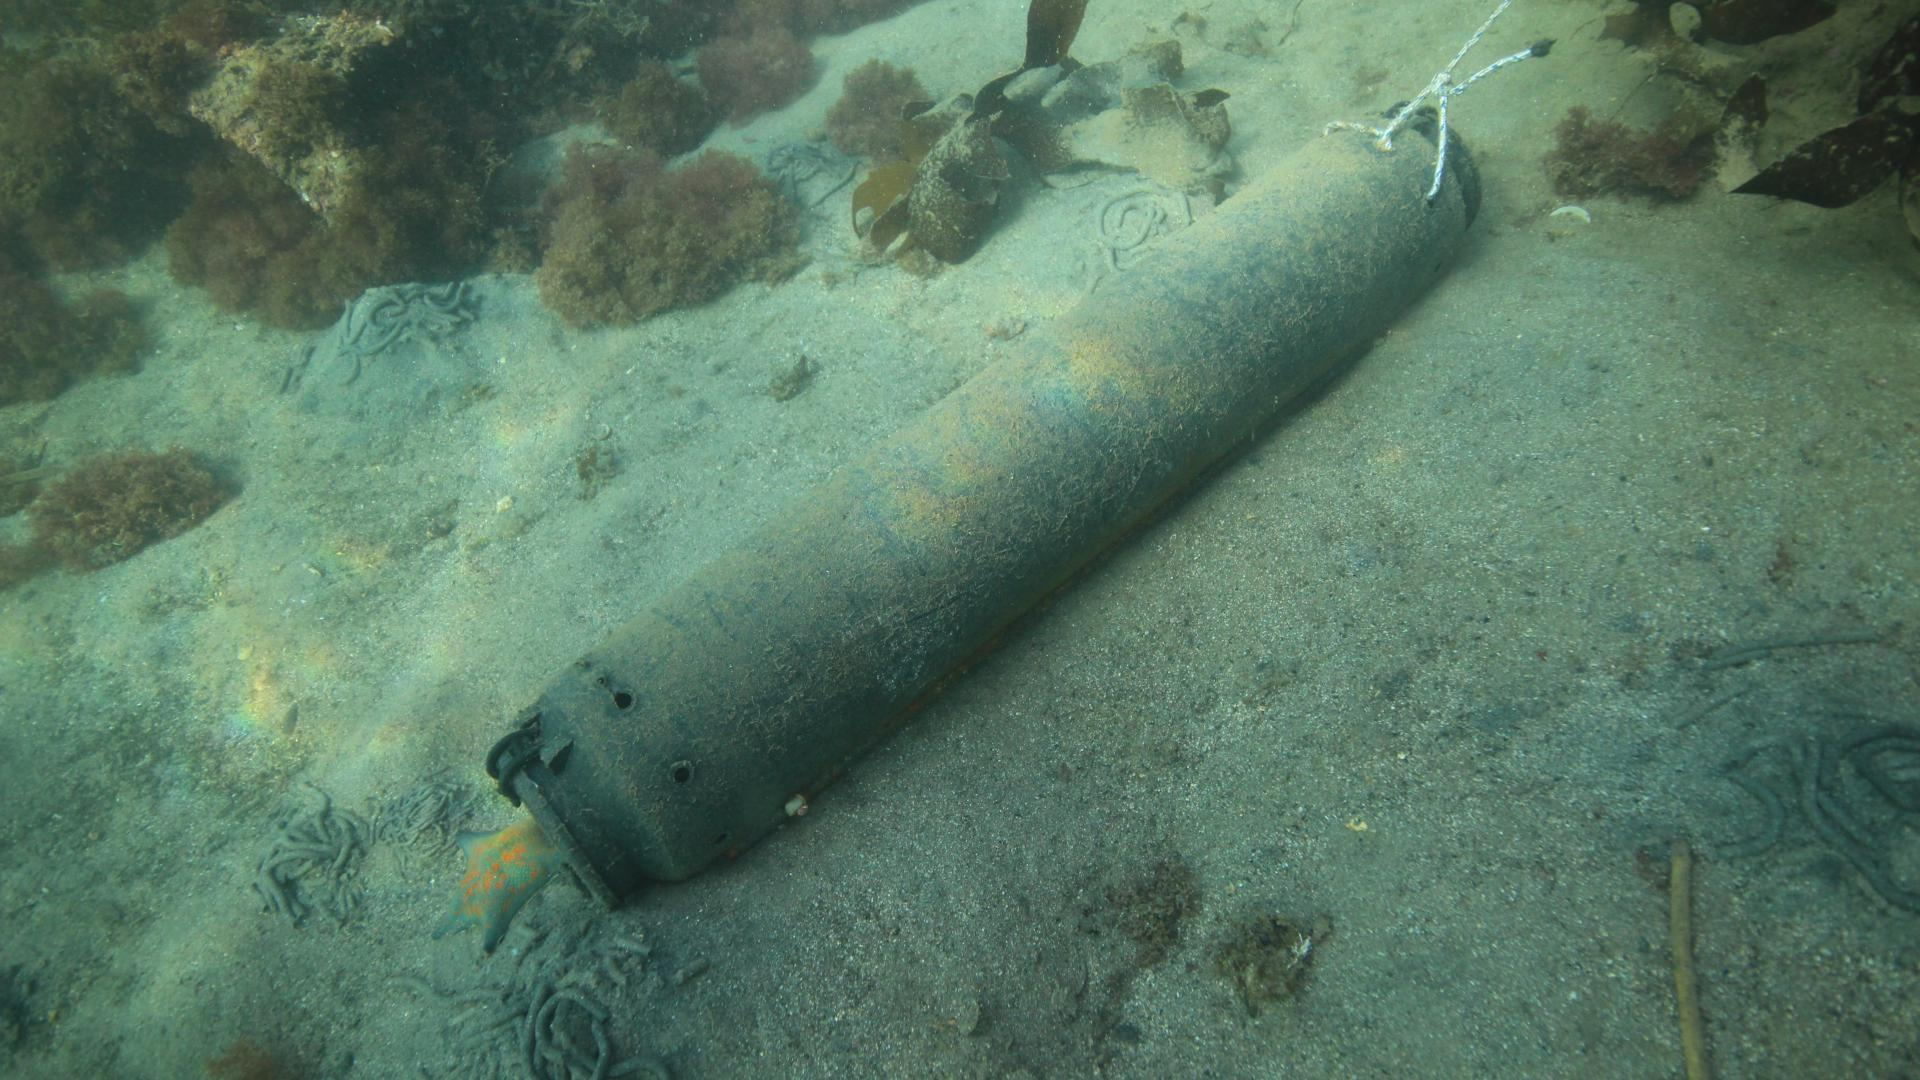bundle of ropes: (1324, 0, 1530, 194)
eel fish trap: (484, 99, 1480, 913)
